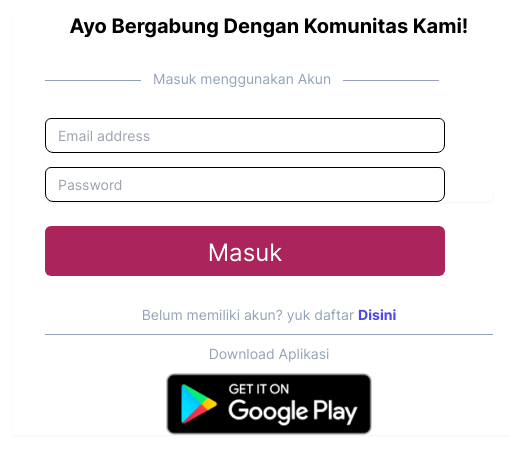
Test case: Login panti › Menampilkan pesan error jika email atau password salah
In the field labelled "Email address": coordinates (245, 136) [45, 118, 445, 153], type "panti@gmail.com"
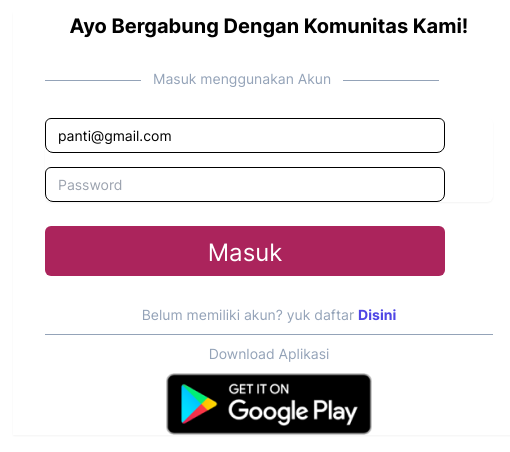
In the password field labelled "Password": coordinates (245, 184) [45, 167, 445, 202], type "password123"
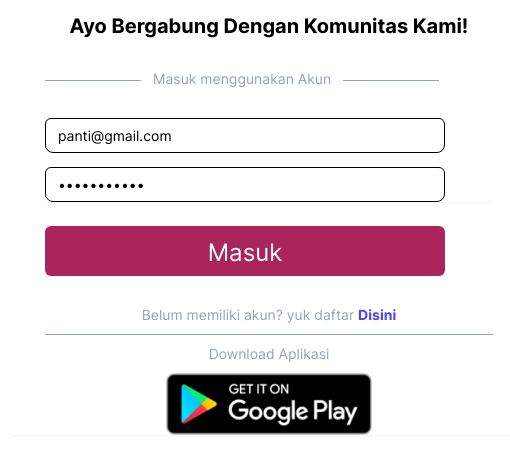
Click the button "Masuk": coordinates (245, 251) [45, 226, 445, 276]
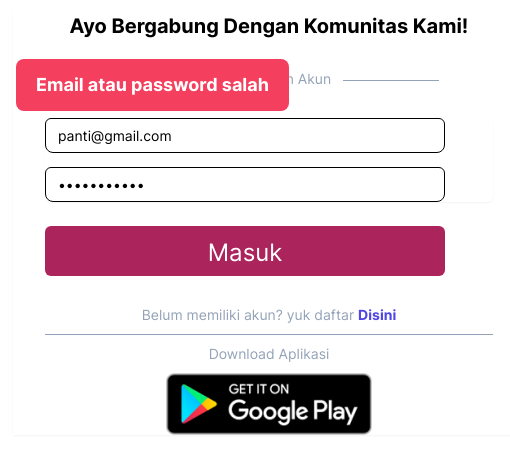
Expected: the text "Email atau password salah" is shown, [36, 74, 269, 95]
